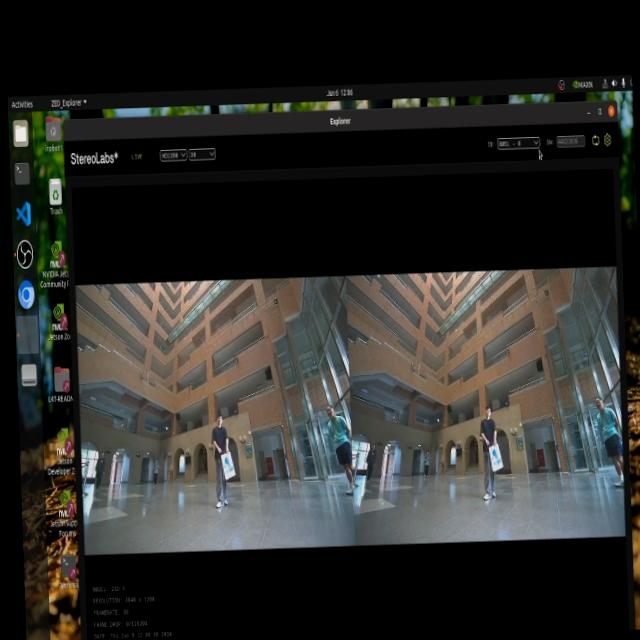blue: (218, 452, 236, 478), (496, 451, 504, 473)
